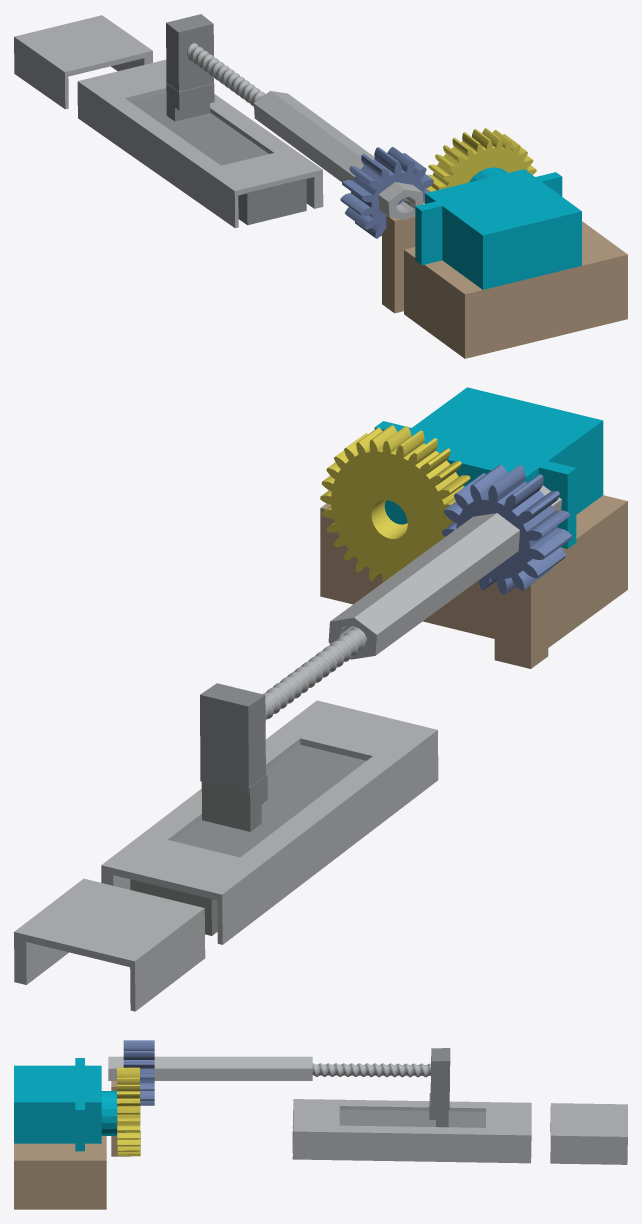
The model's file is 3d_model_problem.glb.
3 renders of one model, top to bottom at view 1: azimuth 30°, elevation 25°; view 2: azimuth 150°, elevation 25°; view 3: azimuth 270°, elevation 25°, orthographic. The views are drawn at different scales.
Visible parts, largest first — view 1: Mesh_Mesh_head_geo.001_lambert2SG.001; view 2: Mesh_Mesh_head_geo.001_lambert2SG.001; view 3: Mesh_Mesh_head_geo.001_lambert2SG.001.
Boxes of the visible parts, x1,y1,x2,y2 form: Mesh_Mesh_head_geo.001_lambert2SG.001: (14,14,627,358); Mesh_Mesh_head_geo.001_lambert2SG.001: (14,387,627,1011); Mesh_Mesh_head_geo.001_lambert2SG.001: (14,1040,627,1209).
Size of the model in its own units: 0.0474 by 0.0317 by 0.1592.
